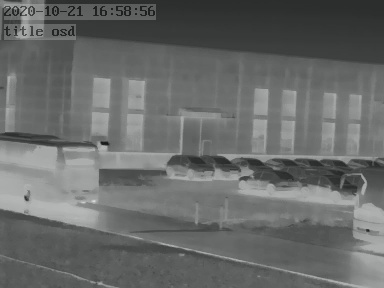vehicle: (1, 130, 98, 206), (304, 172, 359, 202), (239, 169, 304, 191), (163, 152, 211, 179), (204, 153, 242, 177), (233, 154, 269, 171), (344, 156, 379, 172), (261, 155, 296, 169), (319, 156, 350, 170), (296, 155, 325, 169)
